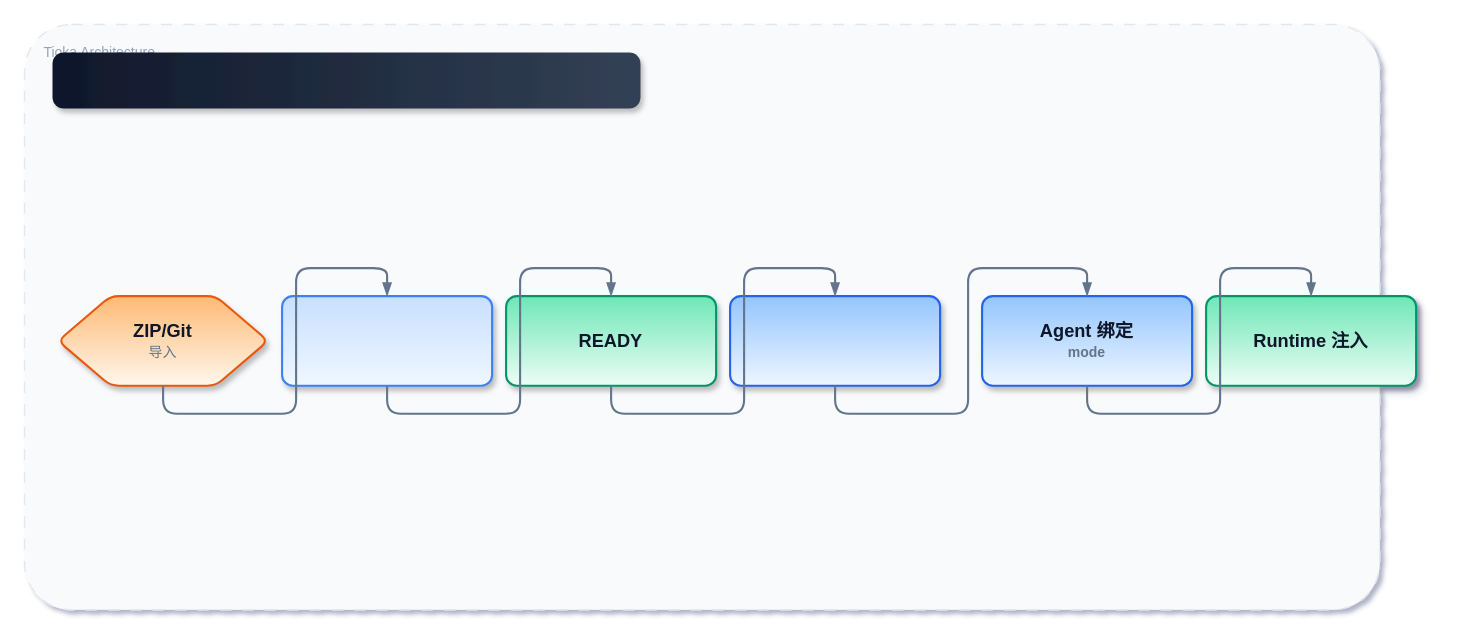
The diagram is 1459 pixels wide and 643 high, and some of its shapes have lost their labels. Here are the shapes that lost their labels. From the top down, the centre of each, then its label:
At pixel 347 82: "Skill 生命周期".
At pixel 388 342: "扫描校验".
At pixel 836 342: "PUBLISHED".
